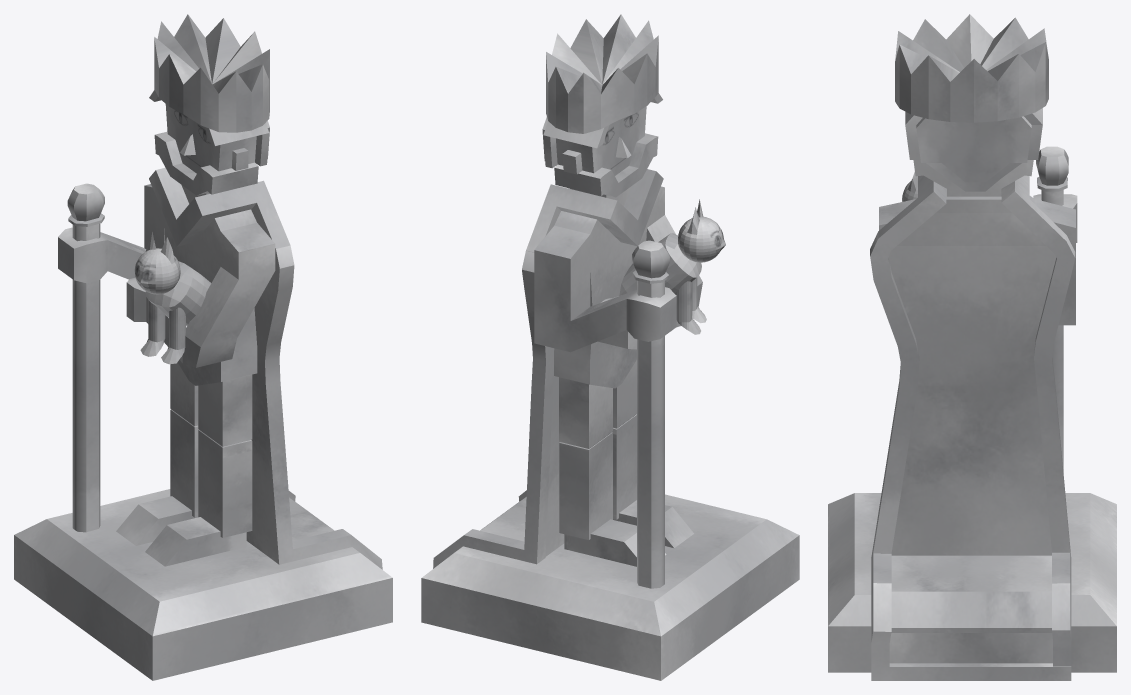
File: KingStatue.fbx
3 renders of one model, left to right at view 1: azimuth 30°, elevation 25°; view 2: azimuth 150°, elevation 25°; view 3: azimuth 270°, elevation 25°, orthographic. The views are drawn at different scales.
Visible parts, largest first — view 1: pCube11; view 2: pCube11; view 3: pCube11.
Part boxes in pixels (x1,y1,x2,y2): pCube11: (14,14,392,680); pCube11: (421,14,799,680); pCube11: (828,14,1116,680).
Bounding box in the file's own units: 4.22 × 8.91 × 4.01.
Materials: 1 (1 with a texture image).
